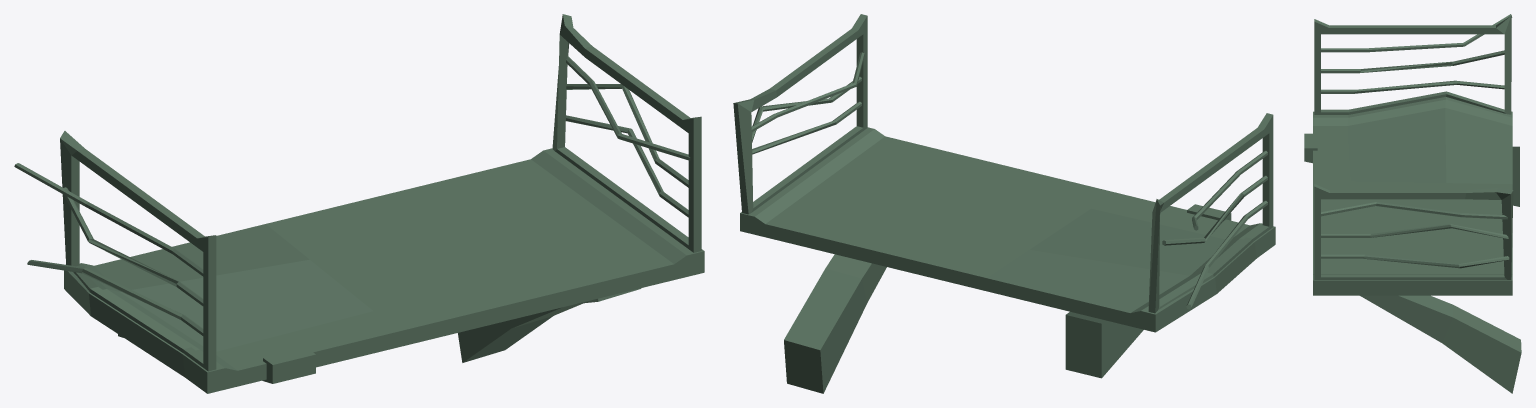
Rendered from Cube_121_geometry-panic-factory_002.fbx.
The picture shows the model from 3 angles, left to right: view 1: azimuth 30°, elevation 25°; view 2: azimuth 150°, elevation 25°; view 3: azimuth 270°, elevation 25°; orthographic projection. The views are drawn at different scales.
Visible parts, largest first — view 1: Cube.121.geometry-panic-factory.002; view 2: Cube.121.geometry-panic-factory.002; view 3: Cube.121.geometry-panic-factory.002.
Part boxes in pixels (x1,y1,x2,y2): Cube.121.geometry-panic-factory.002: [14, 14, 704, 393]; Cube.121.geometry-panic-factory.002: [733, 14, 1275, 393]; Cube.121.geometry-panic-factory.002: [1304, 14, 1521, 393].
Size of the model in its own units: 2.34 by 1.27 by 1.09.
